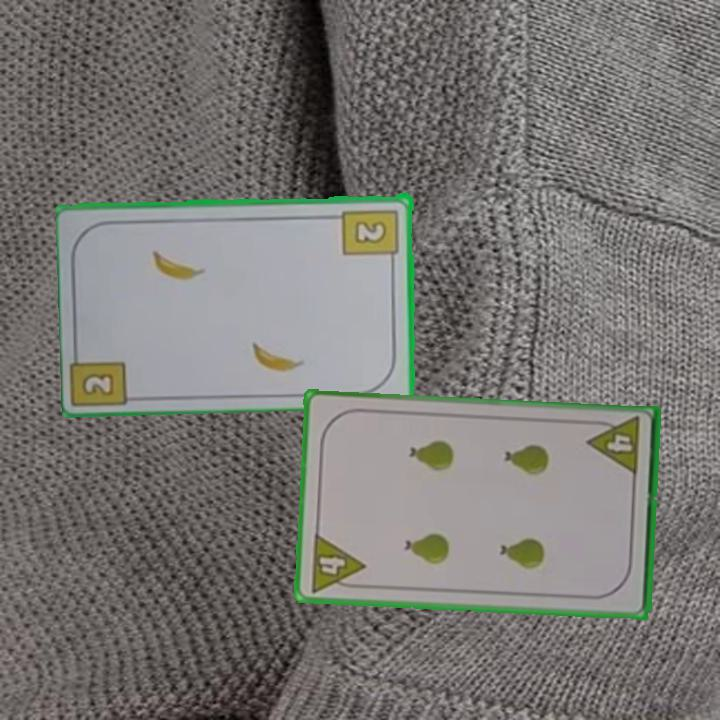2b: (340, 205, 402, 266), (78, 369, 117, 399)
4p: (306, 530, 368, 595), (585, 413, 643, 479)
